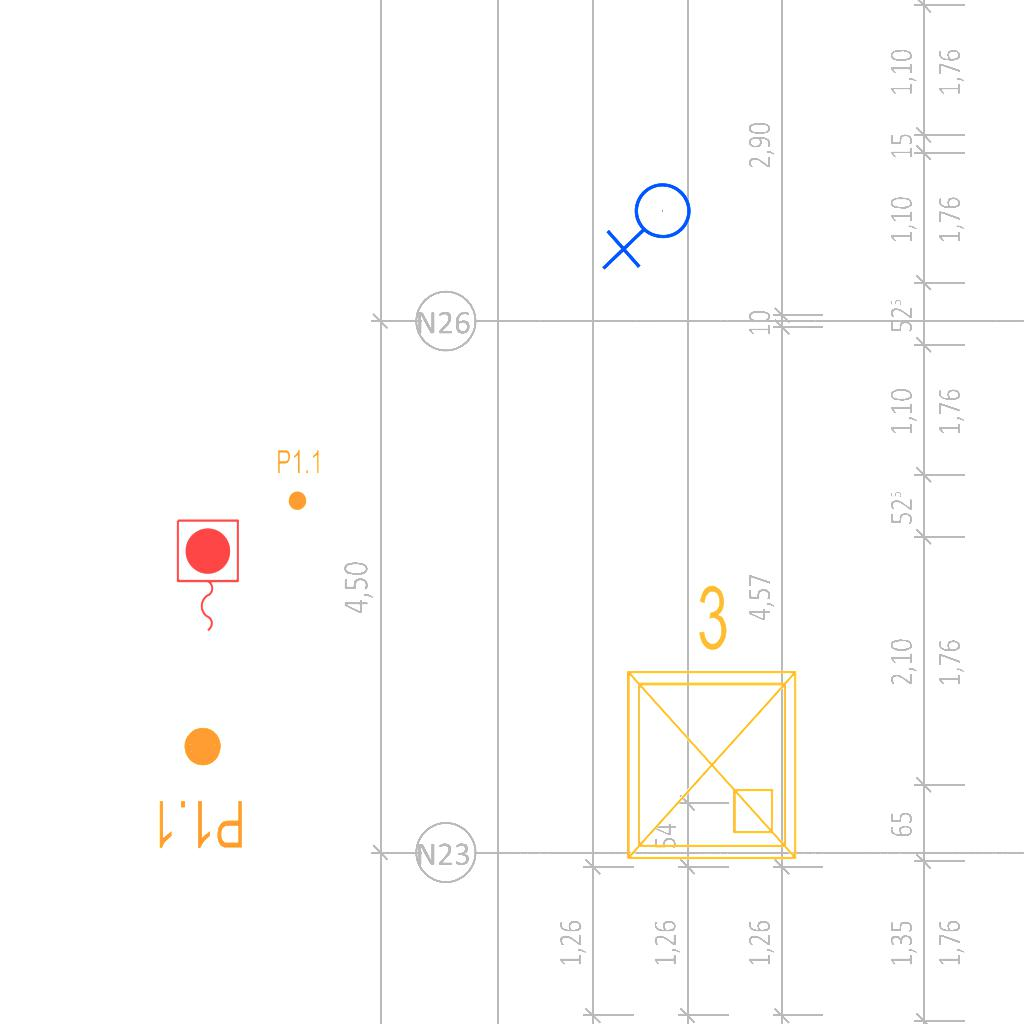Downlight_LED_Einbauleuchten_Flur: (153, 724, 246, 852), (276, 448, 322, 512)
Einbaudownlights_LED_Konferenzraeume: (604, 574, 812, 874)
Elektroanschluss_allgemein_230V_Geraeteanschlussdose_230V: (601, 181, 700, 275)
Zugtaster: (171, 515, 243, 637)
